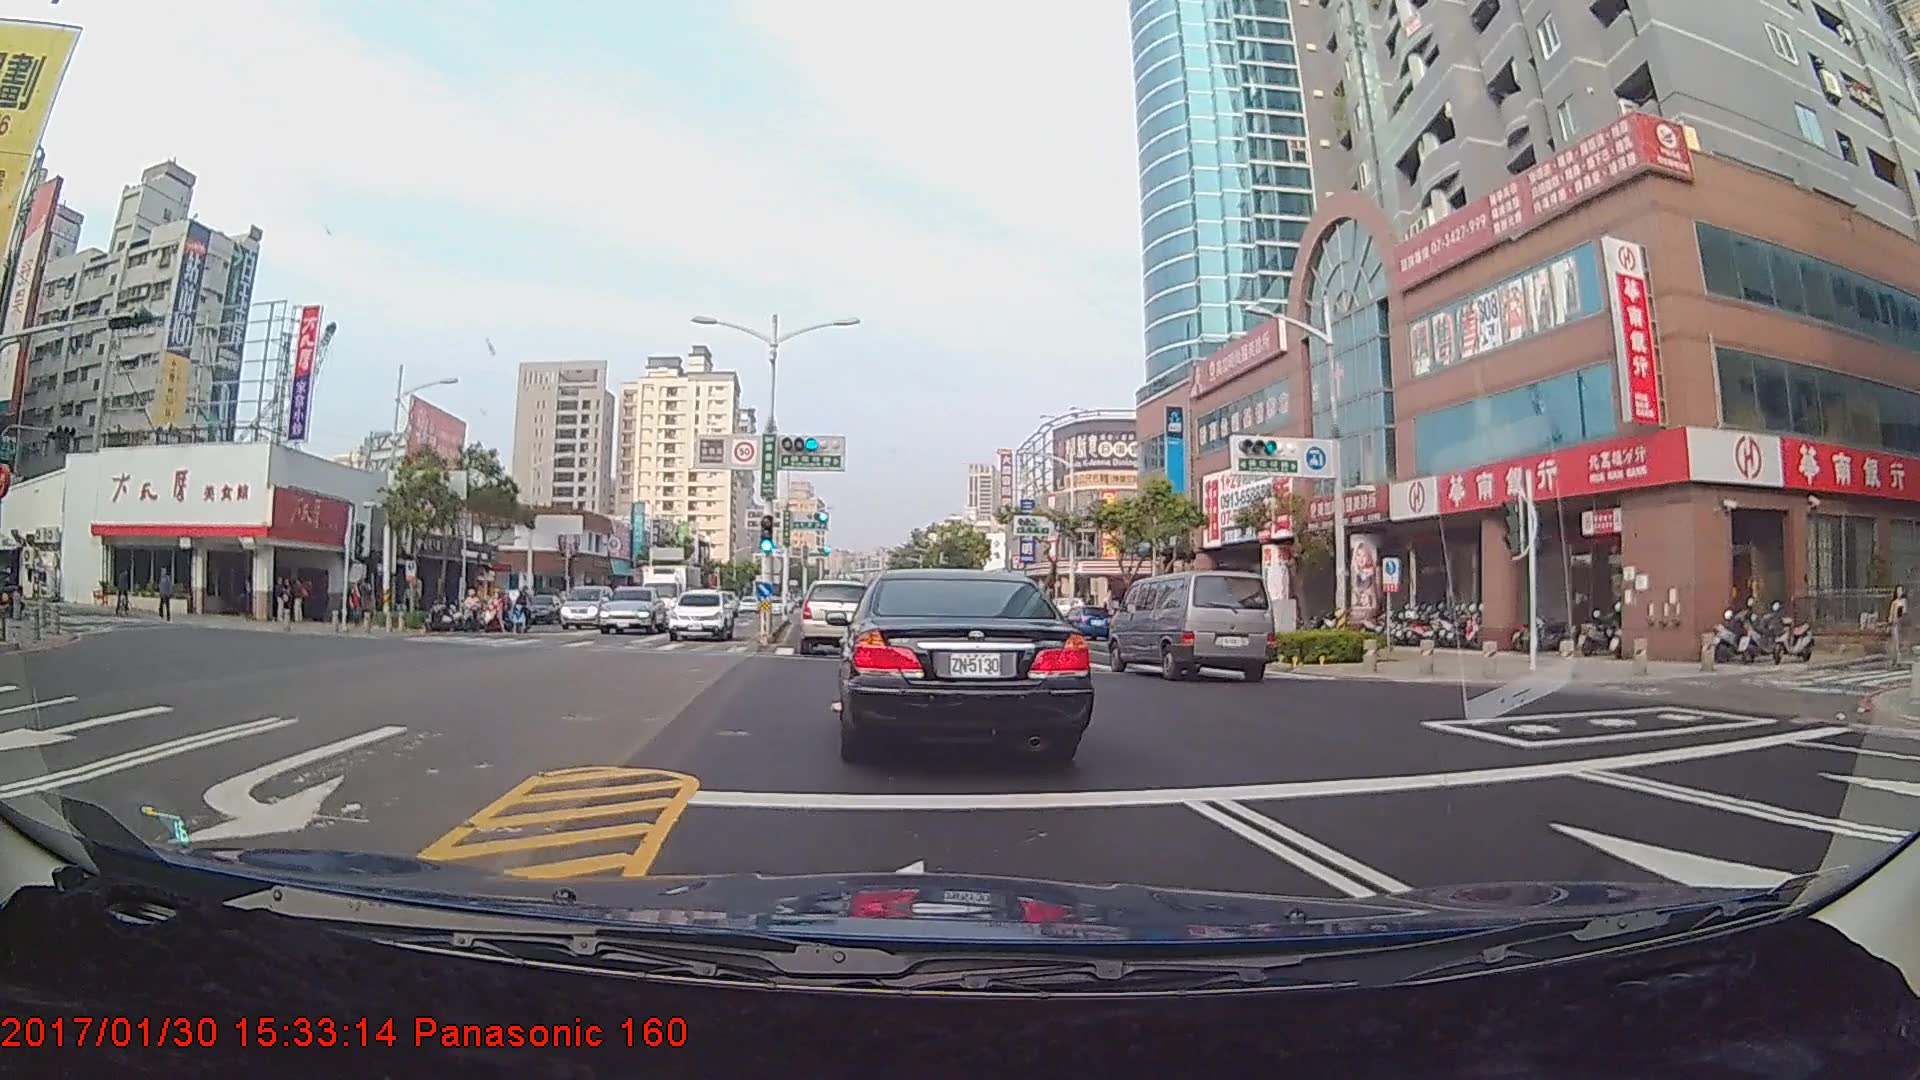pedestrian: (1886, 586, 1913, 663), (153, 569, 174, 621), (275, 576, 295, 626), (291, 577, 311, 625)
vehicle: (839, 564, 1087, 762), (1112, 567, 1273, 683), (799, 578, 876, 656), (643, 558, 708, 631), (667, 588, 735, 642), (598, 585, 665, 636), (559, 582, 612, 627), (1055, 603, 1106, 643)
